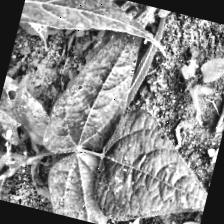Bean Rust: (37, 0, 163, 170), (87, 103, 222, 224), (40, 142, 133, 224)
